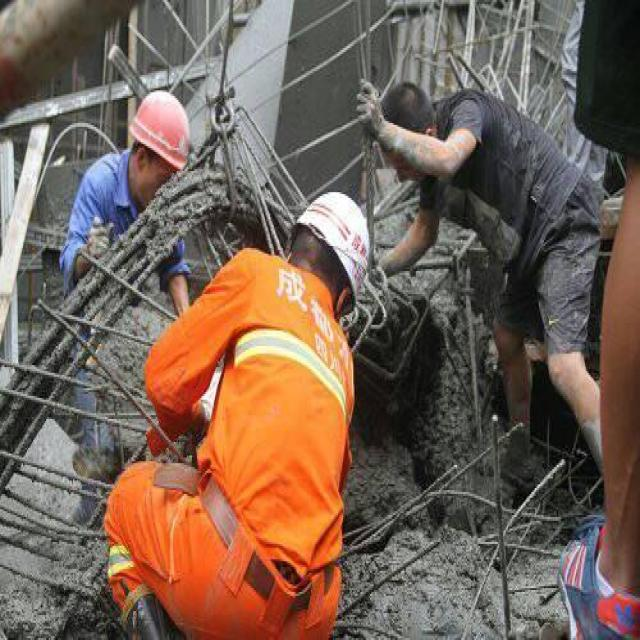helmet: (276, 179, 382, 315), (120, 82, 194, 202)
no-helmet: (382, 69, 442, 185)
